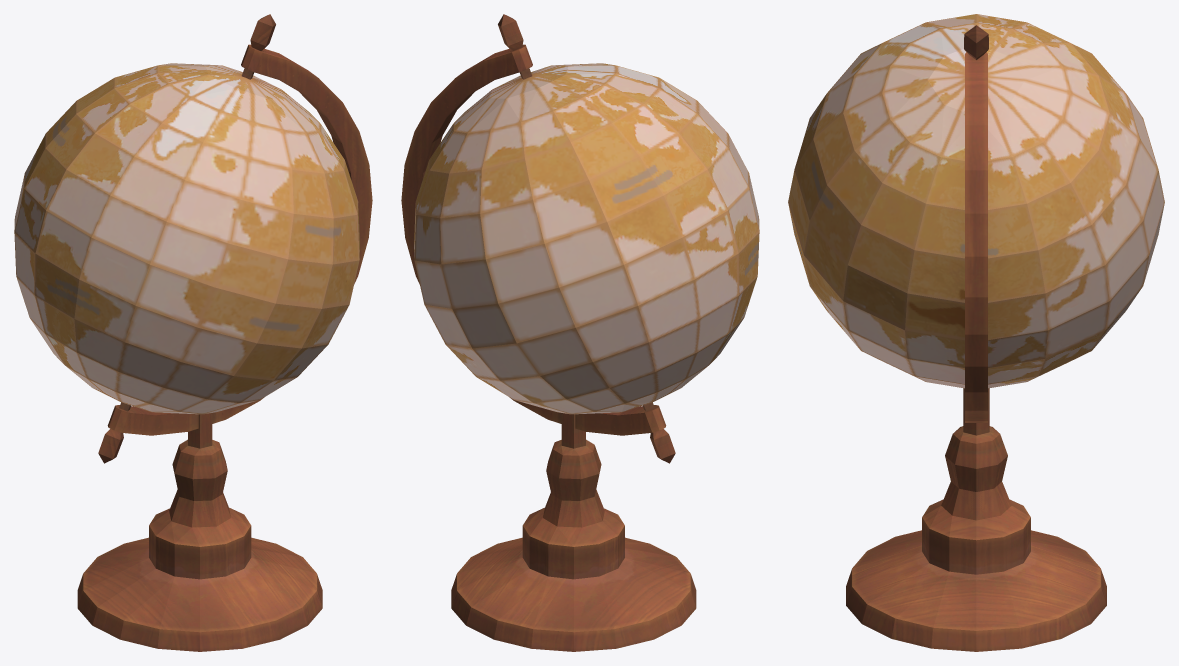
The model's file is P_Globe_001_S1_M01.obj.
3 views of the same model, side by side, from view 1: azimuth 30°, elevation 25°; view 2: azimuth 150°, elevation 25°; view 3: azimuth 270°, elevation 25° (orthographic). The views are drawn at different scales.
Bounding box in the file's own units: 0.7079 × 1.16 × 0.6535.
Materials: 1 (1 with a texture image).
